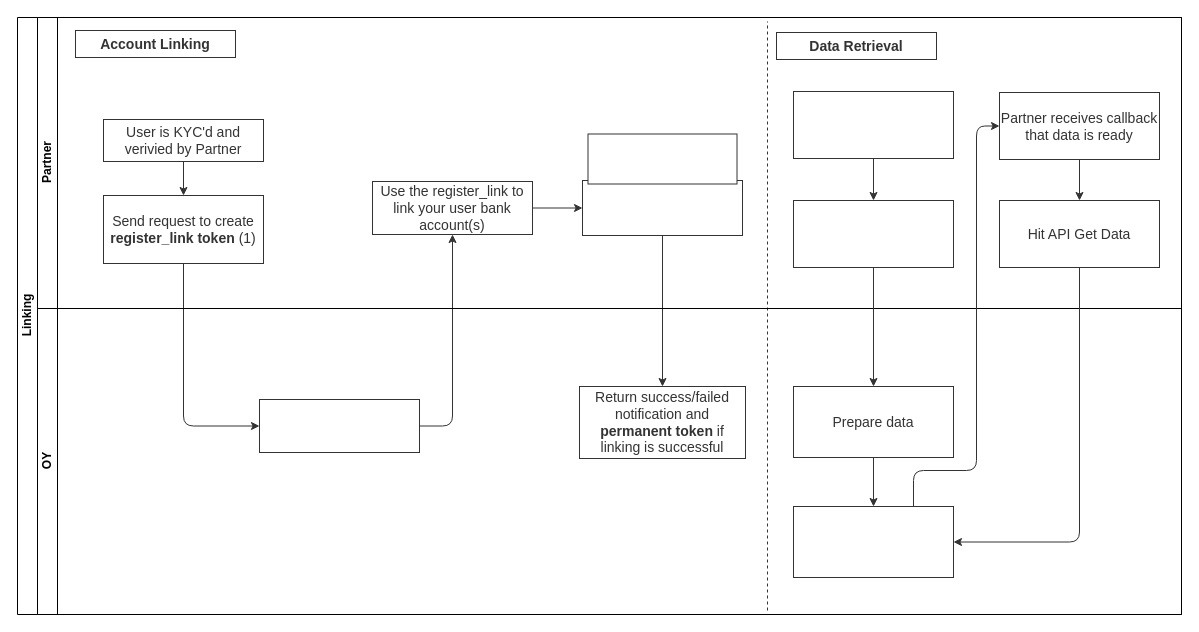
The diagram is 1199 pixels wide and 632 high, and some of its shapes have lost their labels. The shapes that lost their labels are listed below. From the top down, each one's box as (x1, y1, x2, y2) in pixels, then its label:
(792, 90, 954, 158): Partner requests a user historical data
(587, 133, 737, 184): 60-mins expiry time for a token/link can be used
(582, 180, 742, 236): Input all of the information of the bank credentials
(792, 200, 954, 268): Hit API Initialize Account Statement
(258, 398, 420, 452): Return register_link with temporary_token
(792, 506, 954, 578): Data ready
